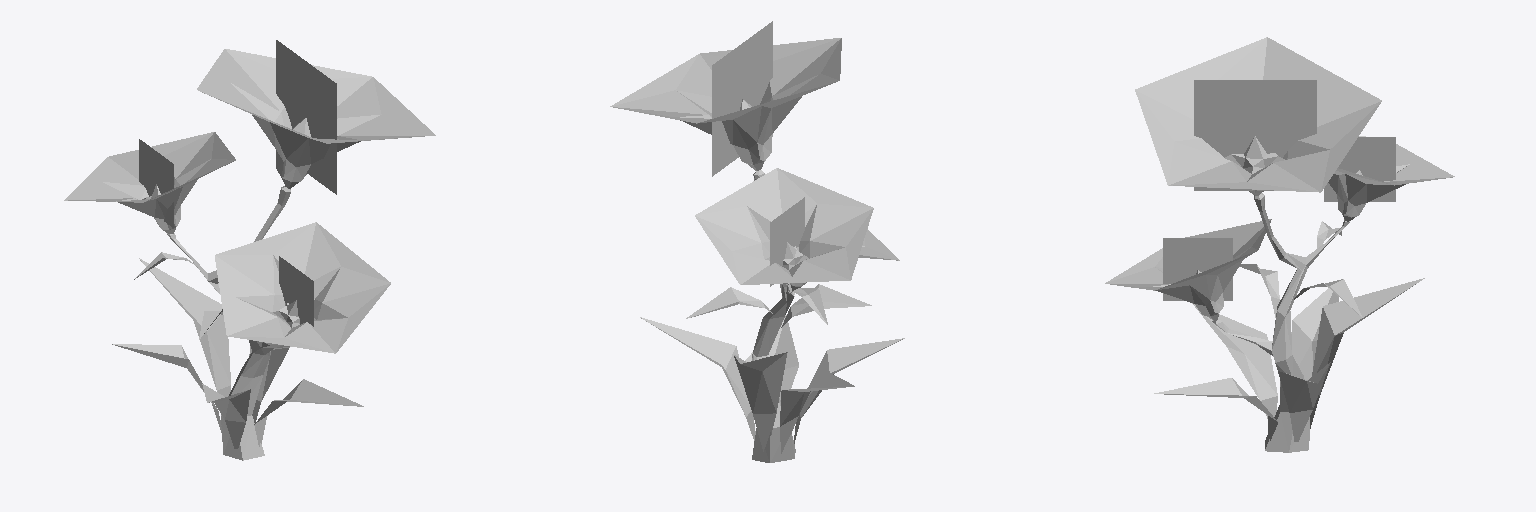
The model's file is bush_starflower.obj.
3 renders of one model, left to right at view 1: azimuth 30°, elevation 25°; view 2: azimuth 150°, elevation 25°; view 3: azimuth 270°, elevation 25°, orthographic.
Parts seen in each view (by area): view 1: Bush_Starflower; view 2: Bush_Starflower; view 3: Bush_Starflower.
Part boxes in pixels (x1,y1,x2,y2): Bush_Starflower: (64,40,435,460); Bush_Starflower: (610,21,904,462); Bush_Starflower: (1105,37,1454,452).
Size of the model in its own units: 0.8554 by 1.15 by 0.9451.